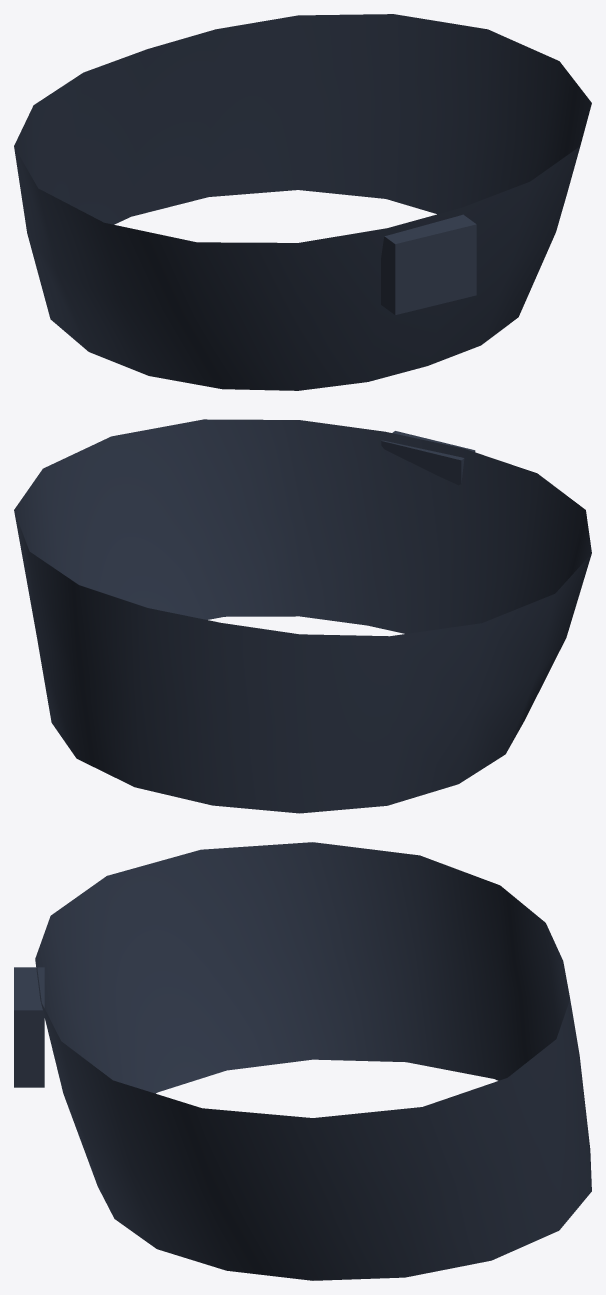
File: lead_armor_belt.glb
The picture shows the model from 3 angles, top to bottom: view 1: azimuth 30°, elevation 25°; view 2: azimuth 150°, elevation 25°; view 3: azimuth 270°, elevation 25°; orthographic projection. The views are drawn at different scales.
Visible parts, largest first — view 1: lead_armor_belt; view 2: lead_armor_belt; view 3: lead_armor_belt.
Boxes of the visible parts, x1=… form: lead_armor_belt: x1=14, y1=14, x2=591, y2=390; lead_armor_belt: x1=14, y1=419, x2=591, y2=813; lead_armor_belt: x1=14, y1=842, x2=591, y2=1280.
Bounding box in the file's own units: 0.3841 × 0.1238 × 0.34.
